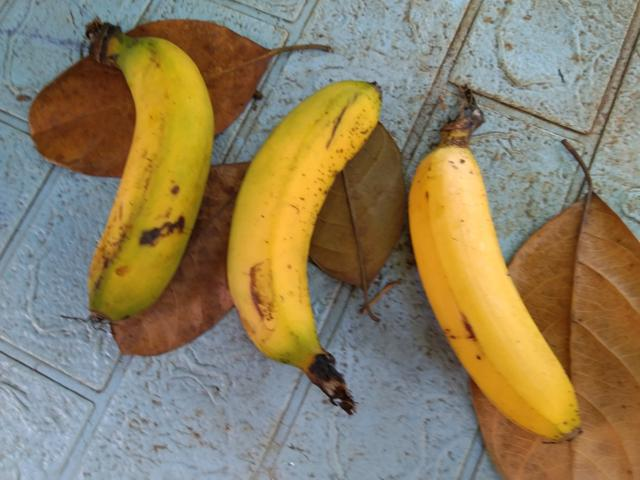freshripe: (405, 130, 601, 463)
ripe: (215, 65, 378, 391), (68, 2, 206, 344)
